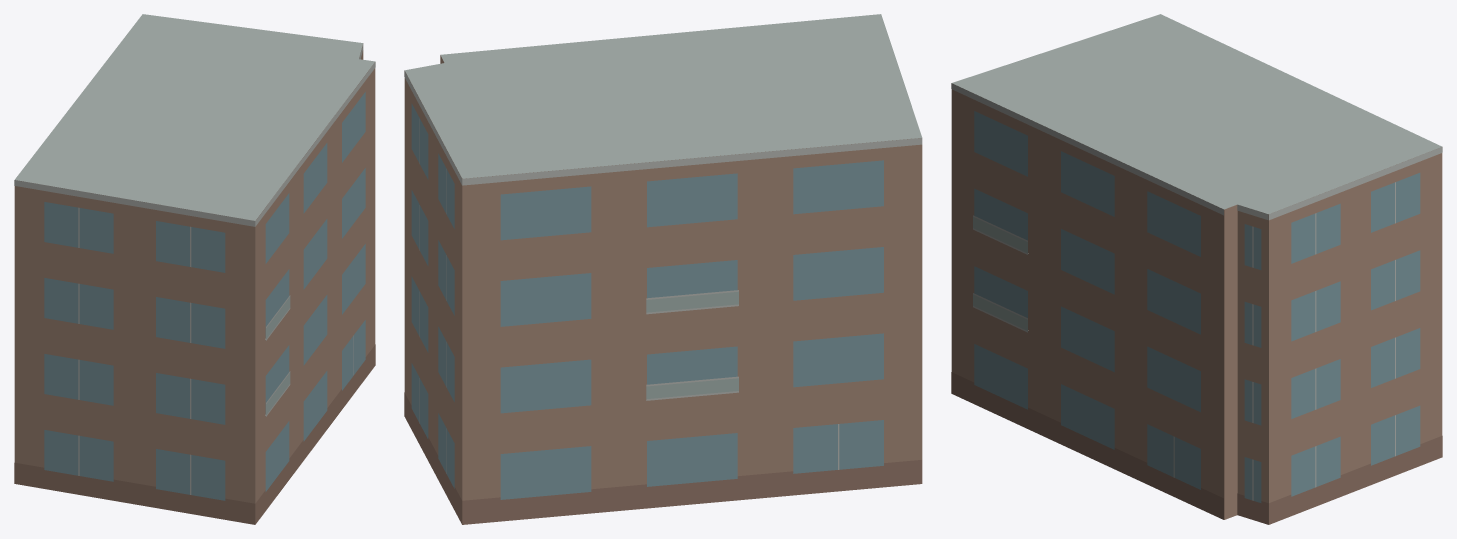
The model's file is survey-upis-33022452.glb.
3 views of the same model, side by side, from view 1: azimuth 30°, elevation 25°; view 2: azimuth 150°, elevation 25°; view 3: azimuth 270°, elevation 25° (orthographic). The views are drawn at different scales.
Parts seen in each view (by area): view 1: survey-upis-33022452.tmp; view 2: survey-upis-33022452.tmp; view 3: survey-upis-33022452.tmp.
Boxes of the visible parts, <box> form: survey-upis-33022452.tmp: <box>14,14,375,524</box>; survey-upis-33022452.tmp: <box>404,14,922,524</box>; survey-upis-33022452.tmp: <box>951,14,1442,524</box>.
Bounding box in the file's own units: 17.16 × 12.4 × 17.77.
